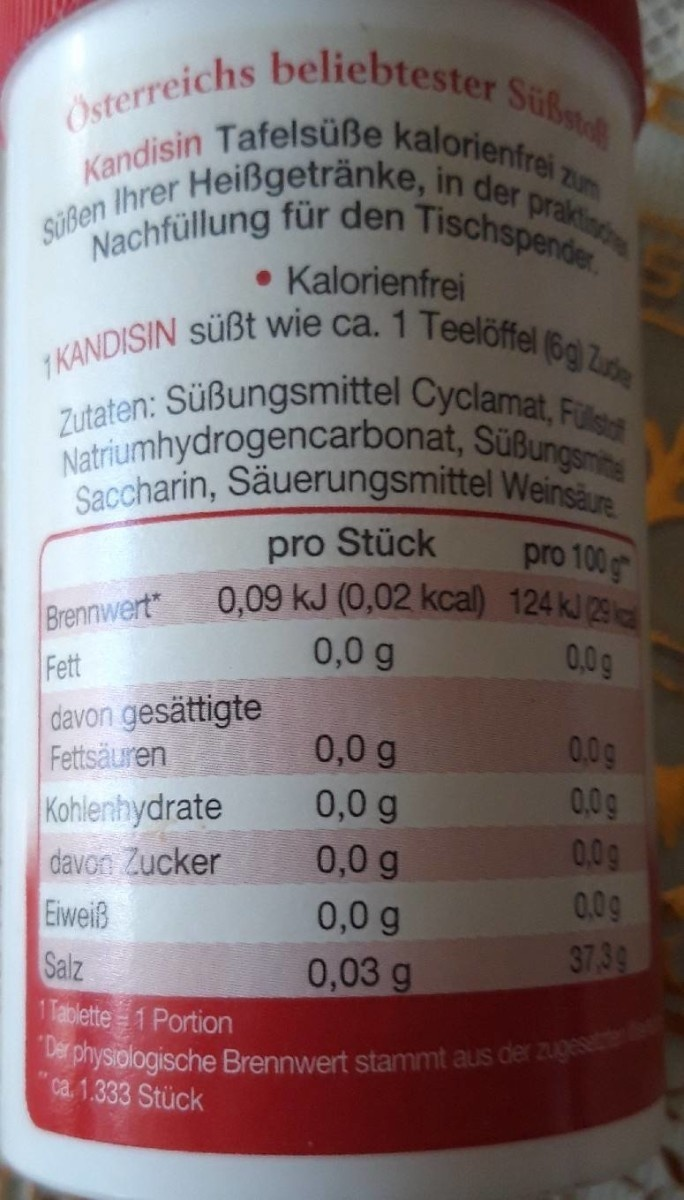column: (43, 521, 486, 997), (506, 521, 639, 984)
table: (34, 510, 659, 994)
